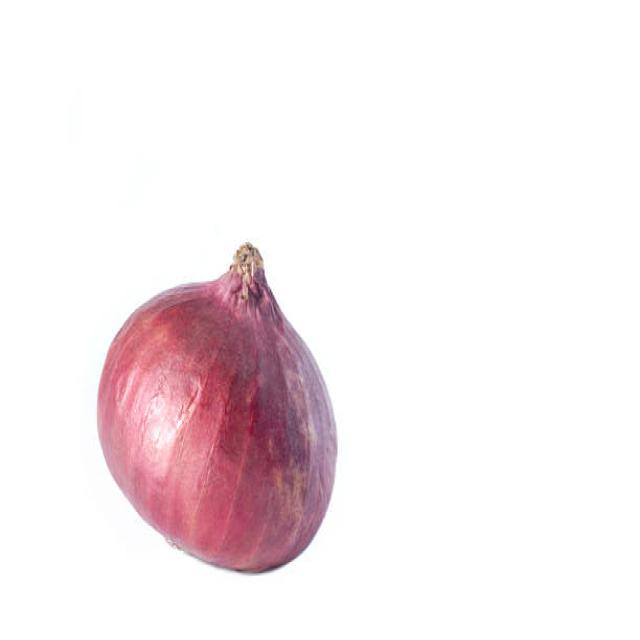onion: (97, 254, 342, 574)
